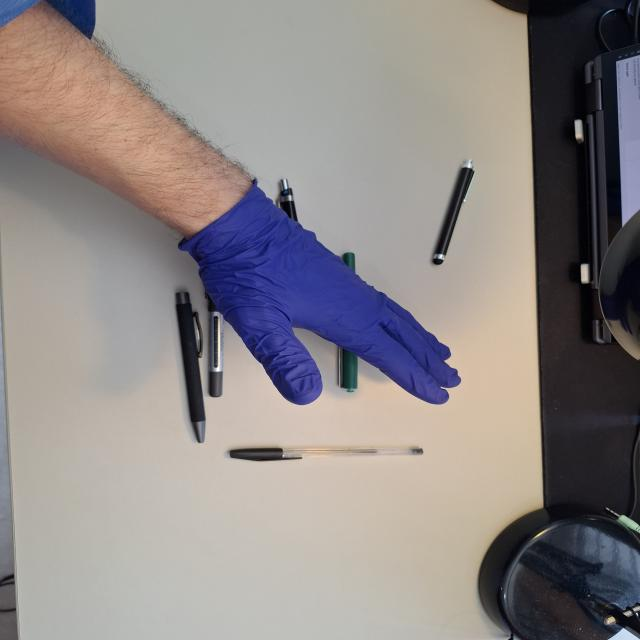glove_on: (174, 175, 464, 408)
